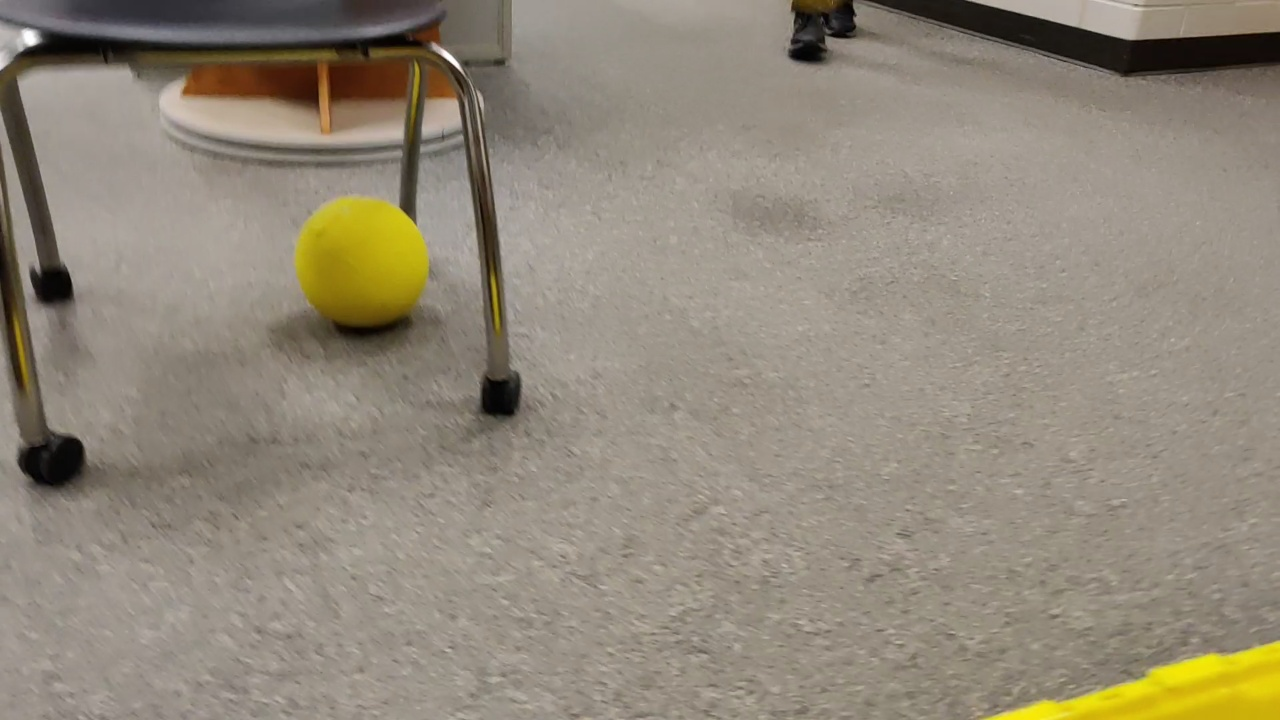Ball: (295, 196, 424, 330)
